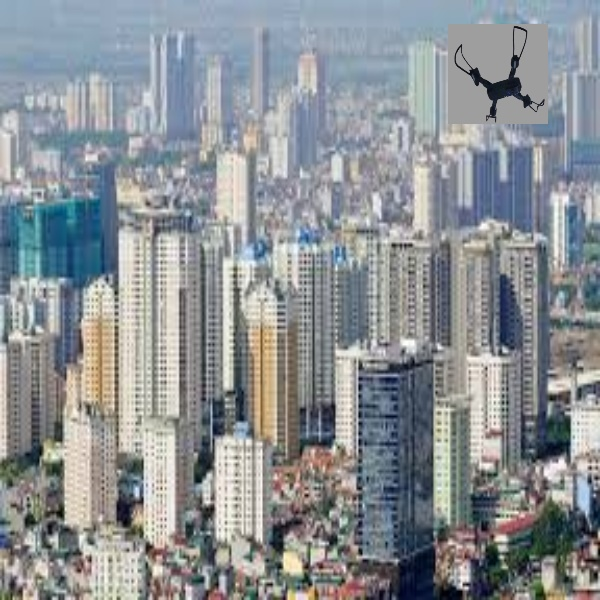drone: (455, 26, 547, 119)
